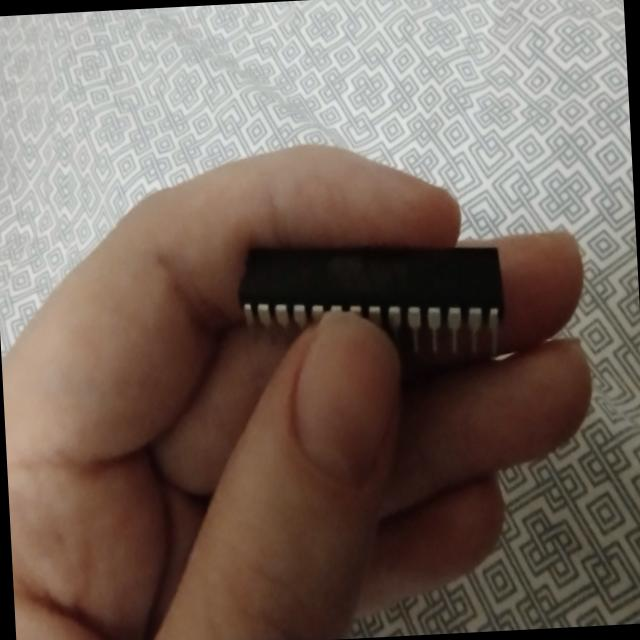atmega: (232, 232, 510, 386)
